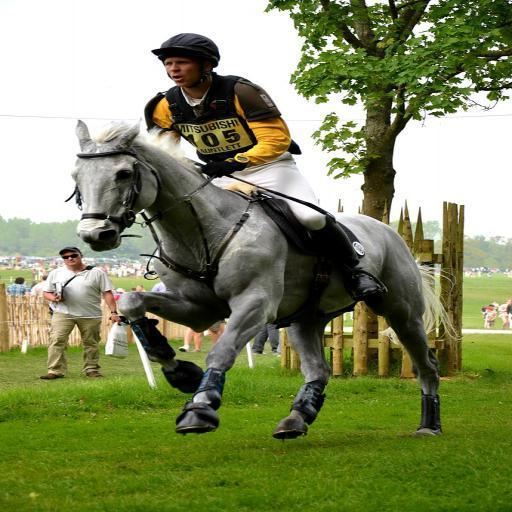horse: (59, 114, 454, 442)
